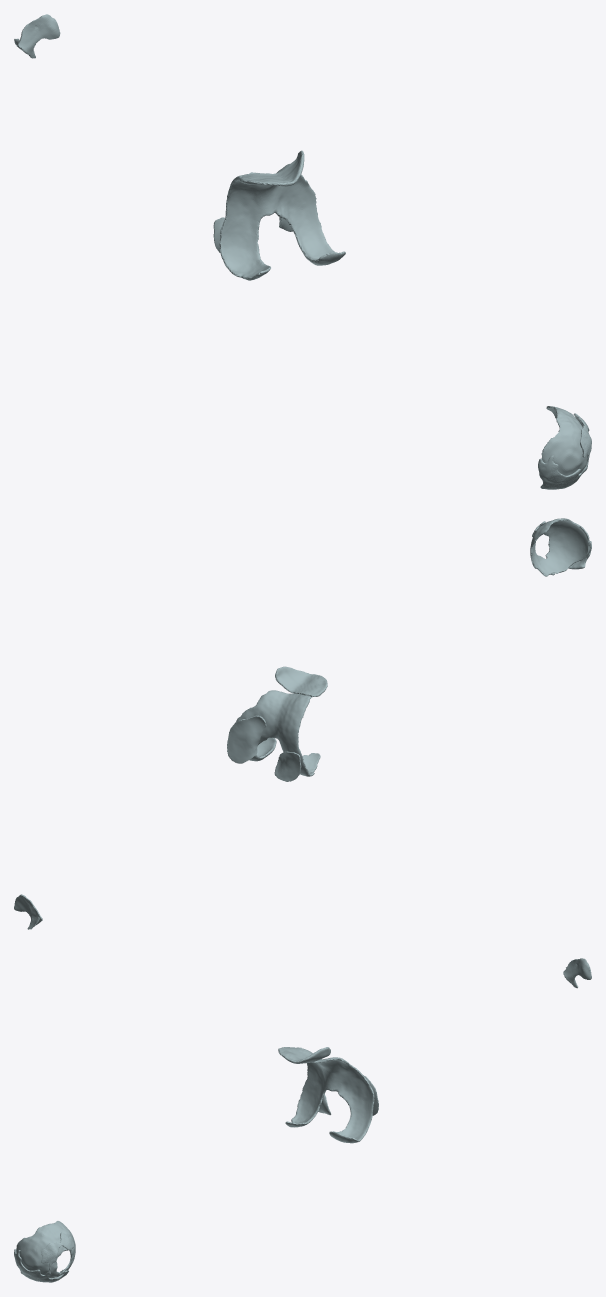
File: vhf-left-cartilage.glb
The picture shows the model from 3 angles, top to bottom: view 1: azimuth 30°, elevation 25°; view 2: azimuth 150°, elevation 25°; view 3: azimuth 330°, elevation 25°; orthographic projection. The views are drawn at different scales.
Visible parts, largest first — view 1: vhf-left-cartilage-femurdistal, vhf-left-cartilage-femurhead, vhf-left-cartilage-pelvisacetabulum, vhf-left-cartilage-tibiadistal, vhf-left-cartilage-patella; view 2: vhf-left-cartilage-femurdistal, vhf-left-cartilage-femurhead, vhf-left-cartilage-tibiamedial, vhf-left-cartilage-patella, vhf-left-cartilage-tibialateral; view 3: vhf-left-cartilage-femurdistal, vhf-left-cartilage-femurhead, vhf-left-cartilage-pelvisacetabulum, vhf-left-cartilage-patella, vhf-left-cartilage-tibiadistal.
Boxes of the visible parts, <box> form: vhf-left-cartilage-femurdistal: <box>219,164,345,280</box>; vhf-left-cartilage-femurhead: <box>541,406,587,475</box>; vhf-left-cartilage-pelvisacetabulum: <box>538,413,591,489</box>; vhf-left-cartilage-tibiadistal: <box>17,14,60,58</box>; vhf-left-cartilage-patella: <box>239,150,304,186</box>; vhf-left-cartilage-femurdistal: <box>234,690,320,776</box>; vhf-left-cartilage-femurhead: <box>530,518,589,576</box>; vhf-left-cartilage-tibiamedial: <box>227,715,266,763</box>; vhf-left-cartilage-patella: <box>275,666,327,696</box>; vhf-left-cartilage-tibialateral: <box>274,751,301,781</box>; vhf-left-cartilage-femurdistal: <box>285,1047,374,1143</box>; vhf-left-cartilage-femurhead: <box>16,1221,75,1278</box>; vhf-left-cartilage-pelvisacetabulum: <box>14,1232,73,1282</box>; vhf-left-cartilage-patella: <box>278,1047,330,1063</box>; vhf-left-cartilage-tibiadistal: <box>563,958,591,988</box>.
Size of the model in its own units: 96.44 by 87.07 by 750.
